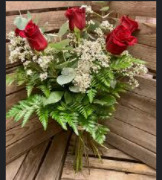RedRose: (104, 18, 140, 56), (8, 22, 52, 53), (62, 6, 97, 28)
